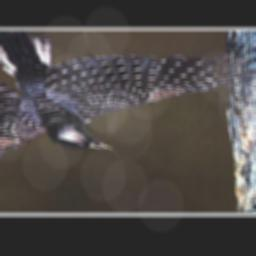Woodpecker: (0, 34, 256, 176)
